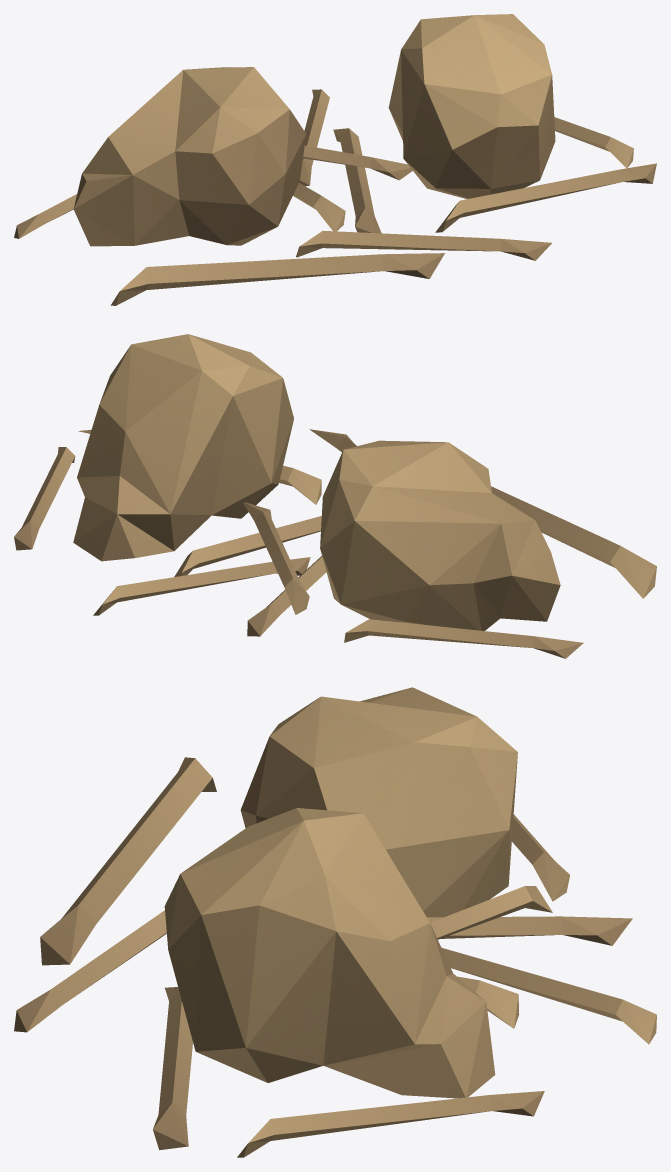
File: Skull_4C_LOD.fbx
3 views of the same model, one above another, from view 1: azimuth 30°, elevation 25°; view 2: azimuth 150°, elevation 25°; view 3: azimuth 270°, elevation 25° (orthographic). The views are drawn at different scales.
Visible parts, largest first — view 1: polySurface1458; view 2: polySurface1458; view 3: polySurface1458.
Part boxes in pixels (box(x1,y1,x2,y2)): polySurface1458: box(14, 14, 656, 305); polySurface1458: box(14, 334, 656, 658); polySurface1458: box(14, 687, 656, 1157).
Bounding box in the file's own units: 2.13 × 0.6558 × 1.47.
